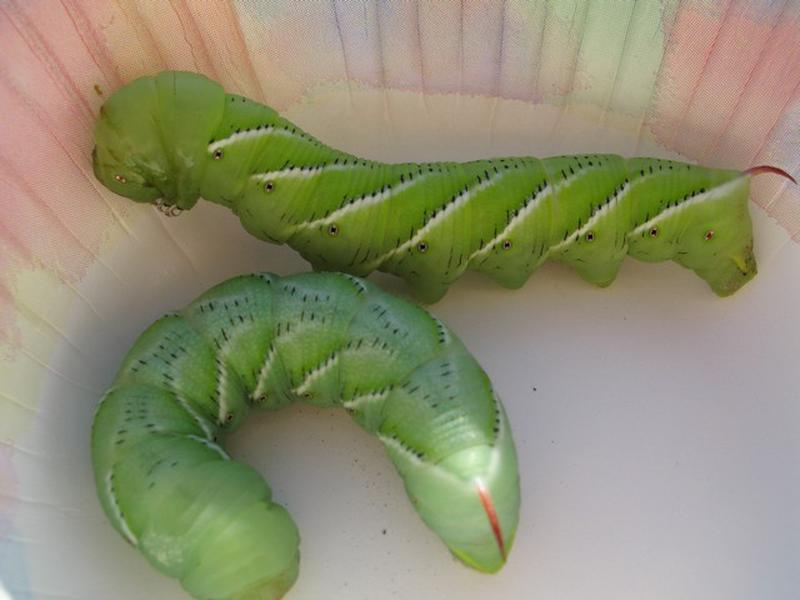Rice_horned_caterpillar: (73, 63, 771, 305), (80, 271, 547, 596)
